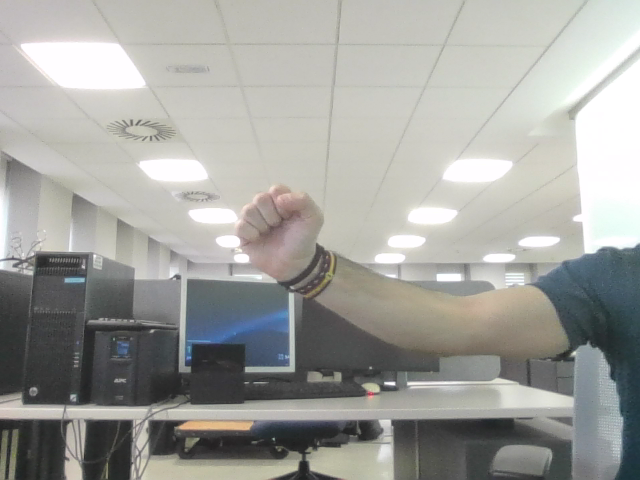Puño: (242, 192, 309, 242)
